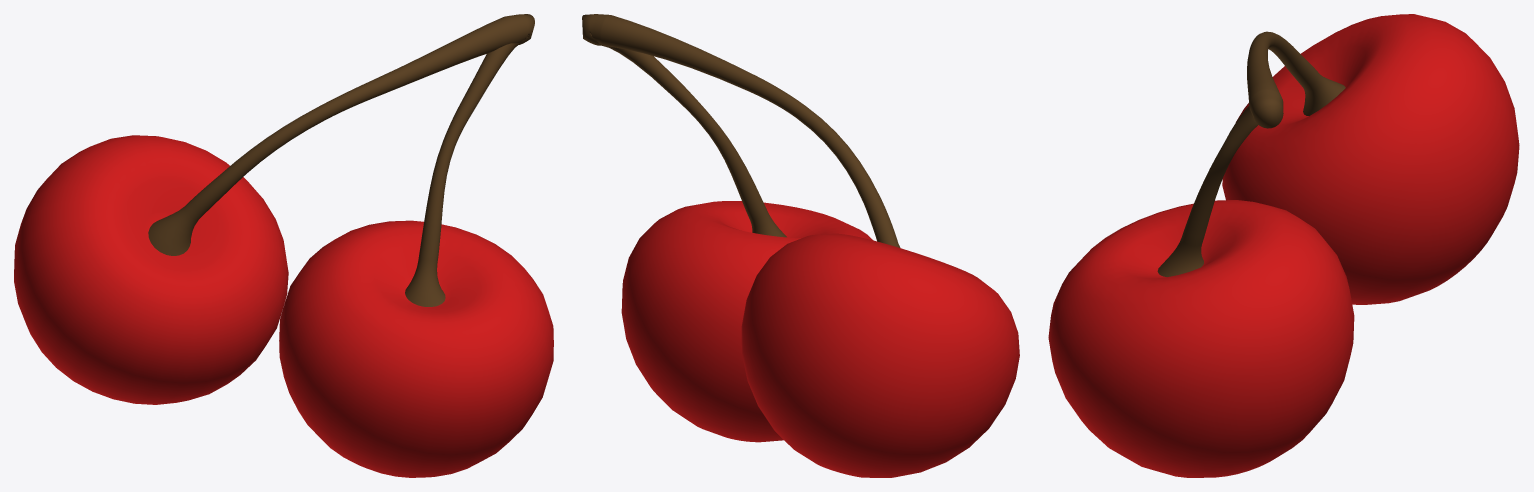
The model's file is cherry.glb.
The picture shows the model from 3 angles, left to right: view 1: azimuth 30°, elevation 25°; view 2: azimuth 150°, elevation 25°; view 3: azimuth 270°, elevation 25°; orthographic projection. The views are drawn at different scales.
Parts seen in each view (by area): view 1: cherry1; view 2: cherry1; view 3: cherry1.
Boxes of the visible parts, bbox=[...] form: cherry1: bbox=[14, 14, 553, 477]; cherry1: bbox=[582, 14, 1019, 477]; cherry1: bbox=[1048, 14, 1519, 477].
Size of the model in its own units: 1.33 by 1.11 by 1.07.
